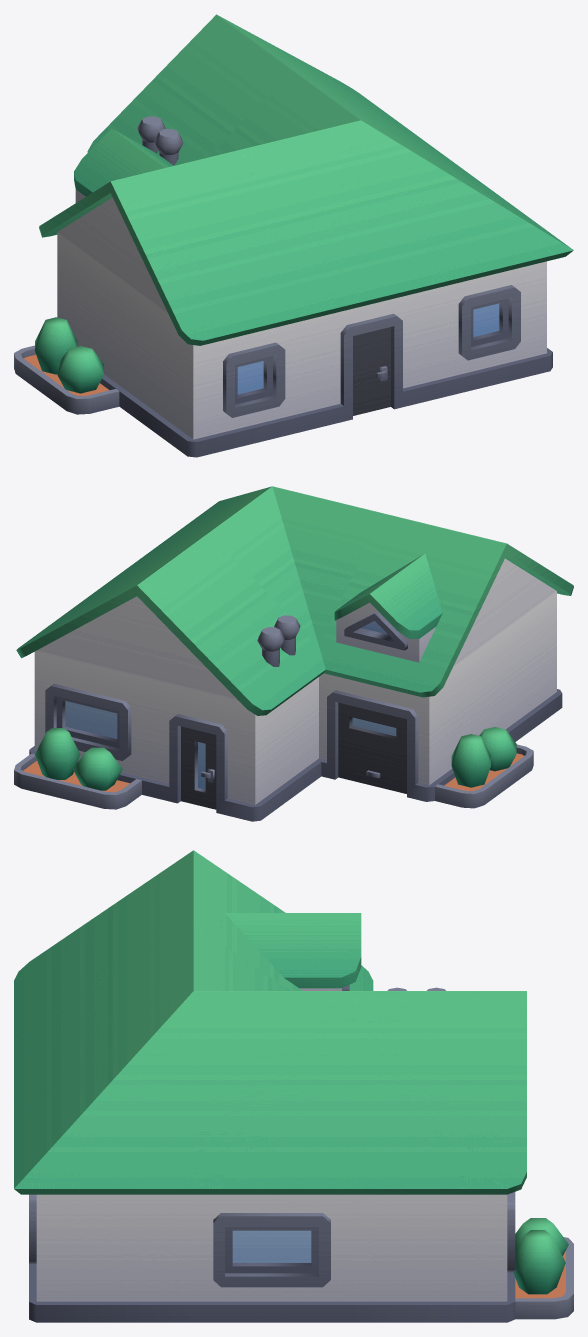
Rendered from building-type-m.glb.
3 renders of one model, top to bottom at view 1: azimuth 30°, elevation 25°; view 2: azimuth 150°, elevation 25°; view 3: azimuth 270°, elevation 25°, orthographic. The views are drawn at different scales.
Visible parts, largest first — view 1: building-type-m; view 2: building-type-m; view 3: building-type-m.
Boxes of the visible parts, x1,y1,x2,y2 form: building-type-m: (14,14,573,457); building-type-m: (14,486,573,821); building-type-m: (14,850,573,1322).
Size of the model in its own units: 1.43 by 0.7375 by 1.43.
Materials: 1 (1 with a texture image).
